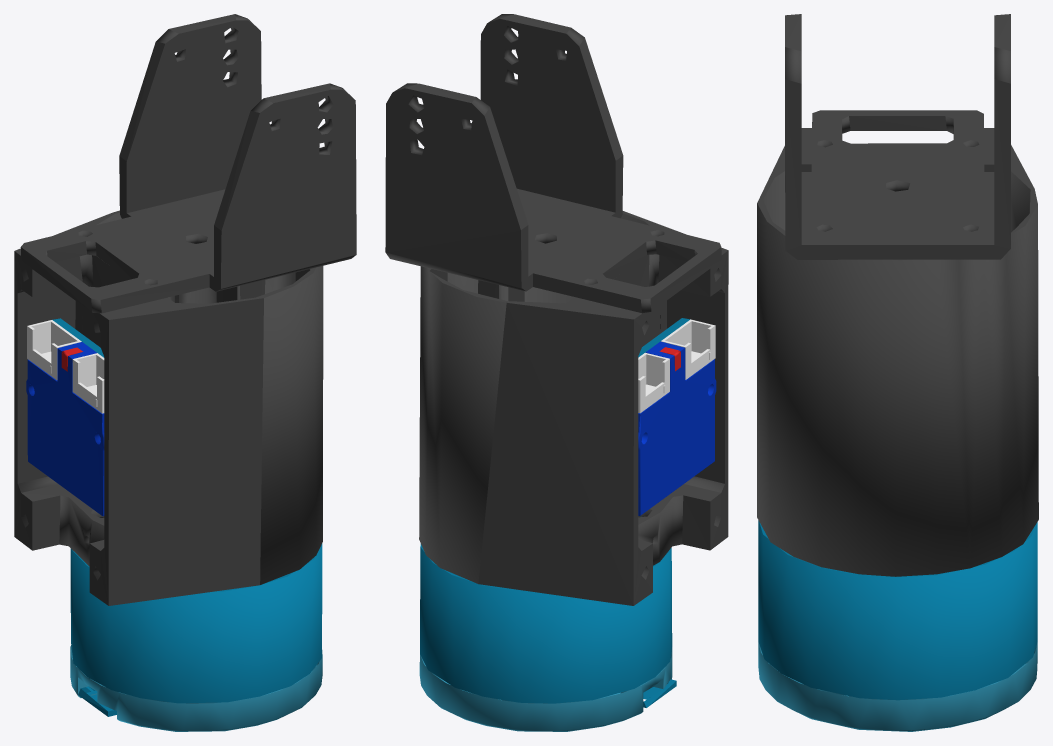
The model's file is NECK_LINK1_mesh.dae.
3 views of the same model, side by side, from view 1: azimuth 30°, elevation 25°; view 2: azimuth 150°, elevation 25°; view 3: azimuth 270°, elevation 25° (orthographic). The views are drawn at different scales.
Visible parts, largest first — view 1: サーフェス1_ncl1_3, サーフェス1, サーフェス1_ncl1_4, サーフェス1_ncl1_6, サーフェス1_ncl1_7, サーフェス1_ncl1_8; view 2: サーフェス1_ncl1_3, サーフェス1, サーフェス1_ncl1_4, サーフェス1_ncl1_6, サーフェス1_ncl1_7, サーフェス1_ncl1_8; view 3: サーフェス1_ncl1_3, サーフェス1_ncl1_4, サーフェス1, サーフェス1_ncl1_7.
Boxes of the visible parts, x1,y1,x2,y2 form: サーフェス1_ncl1_3: (14,210,323,605); サーフェス1: (20,14,356,313); サーフェス1_ncl1_4: (52,318,322,716); サーフェス1_ncl1_6: (26,342,104,516); サーフェス1_ncl1_7: (70,645,322,731); サーフェス1_ncl1_8: (27,320,104,413); サーフェス1_ncl1_3: (419,211,728,605); サーフェス1: (385,14,721,313); サーフェス1_ncl1_4: (420,318,689,707); サーフェス1_ncl1_6: (638,341,716,515); サーフェス1_ncl1_7: (419,647,672,731); サーフェス1_ncl1_8: (638,319,715,413); サーフェス1_ncl1_3: (757,128,1038,576); サーフェス1_ncl1_4: (758,520,1037,700); サーフェス1: (785,14,1010,259); サーフェス1_ncl1_7: (758,642,1037,731).
Size of the model in its own units: 0.048 by 0.0423 by 0.1131.
